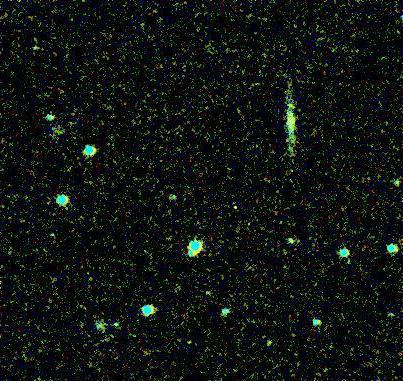star: (276, 91, 306, 121)
